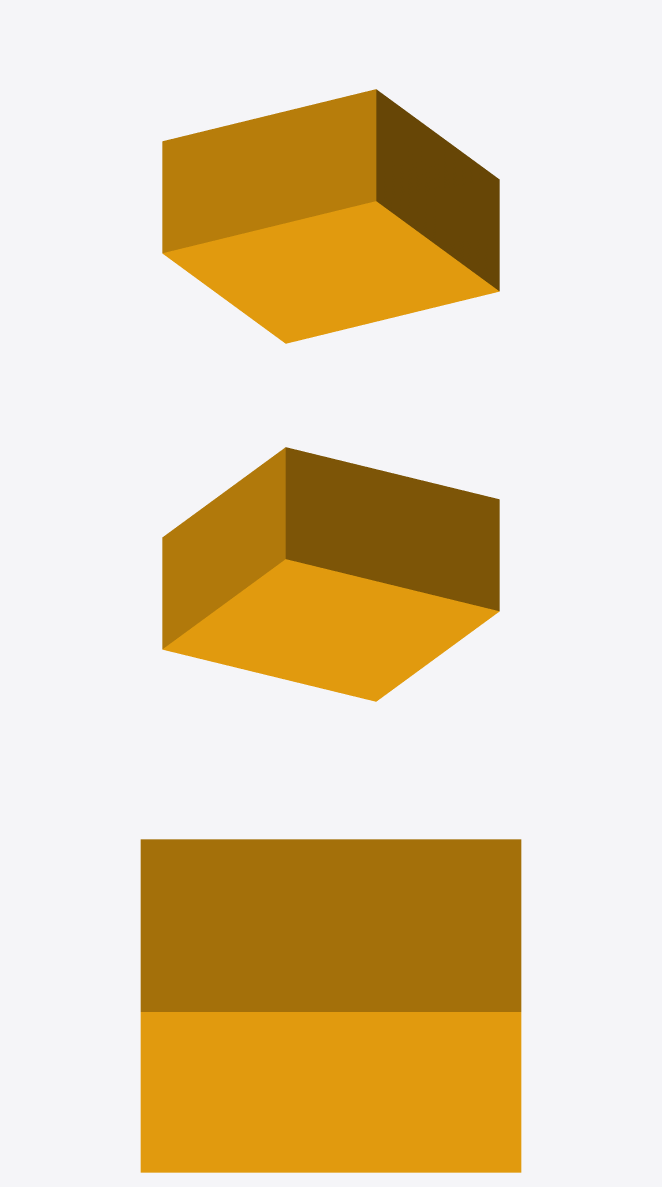
The model's file is autel_evo_ii.glb.
The picture shows the model from 3 angles, top to bottom: view 1: azimuth 30°, elevation 25°; view 2: azimuth 150°, elevation 25°; view 3: azimuth 270°, elevation 25°; orthographic projection. The views are drawn at different scales.
Parts seen in each view (by area): view 1: Autel_EVO_II_Placeholder; view 2: Autel_EVO_II_Placeholder; view 3: Autel_EVO_II_Placeholder.
Boxes of the visible parts, x1=… form: Autel_EVO_II_Placeholder: x1=162, y1=89, x2=499, y2=343; Autel_EVO_II_Placeholder: x1=162, y1=447, x2=499, y2=701; Autel_EVO_II_Placeholder: x1=140, y1=839, x2=521, y2=1172.
Size of the model in its own units: 0.24 by 0.07 by 0.2.
